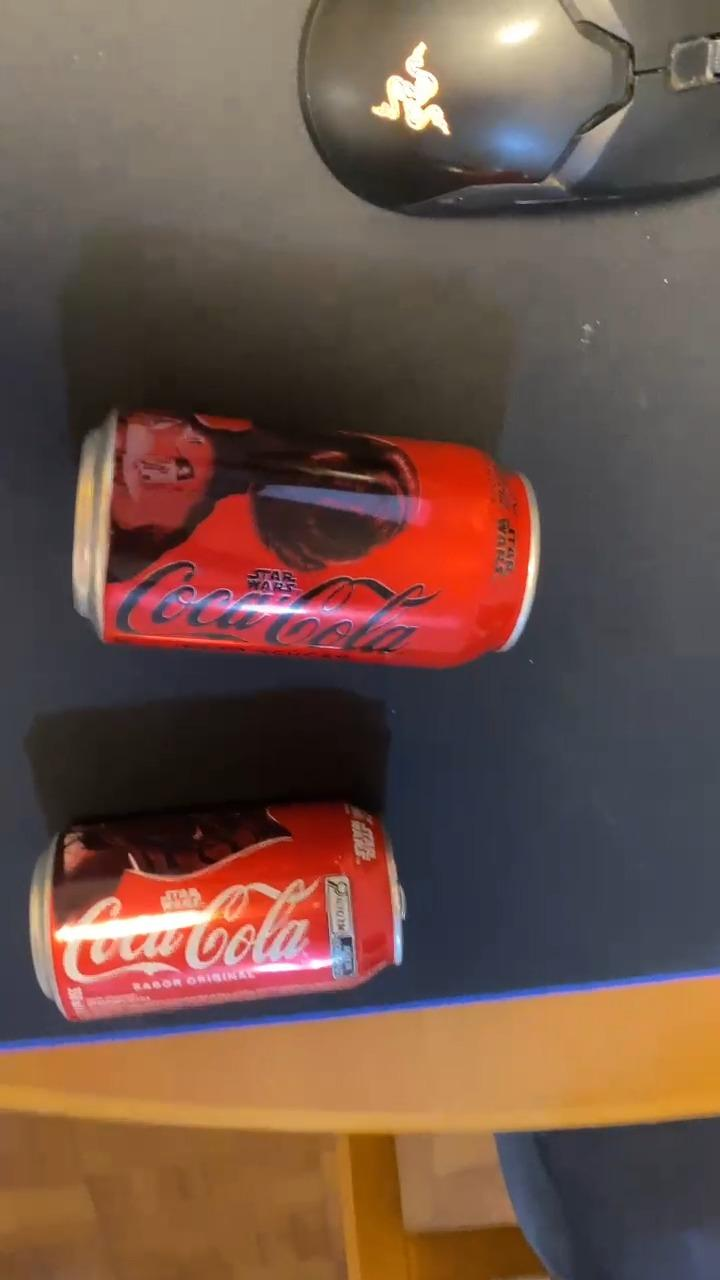coke: (70, 411, 545, 665), (31, 798, 411, 1024)
